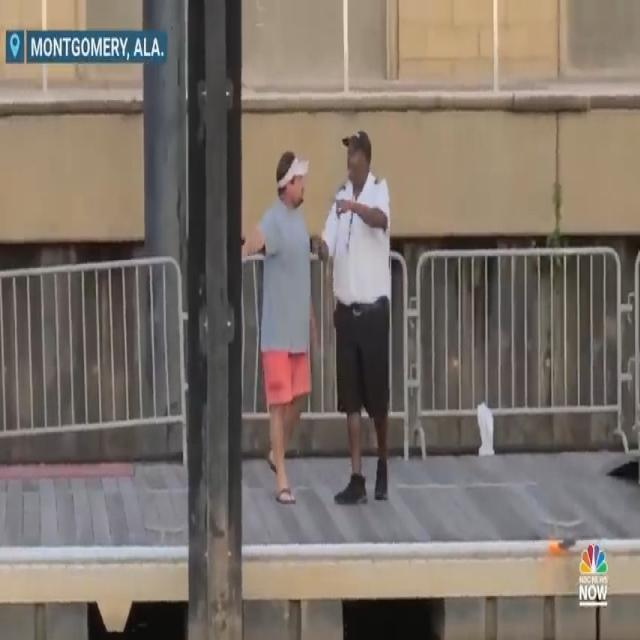non-fight: (251, 118, 406, 522)
